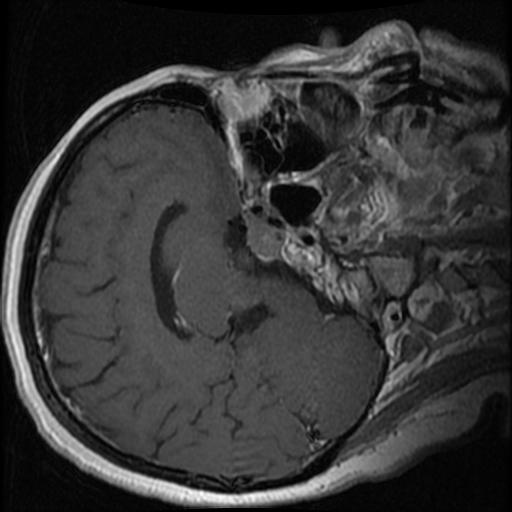pituitary tumour: (242, 207, 286, 261)
